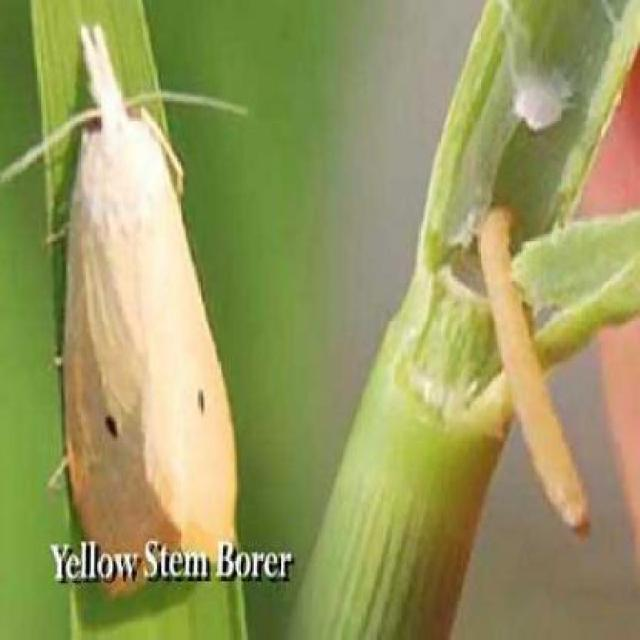stem-borer: (50, 16, 239, 532)
